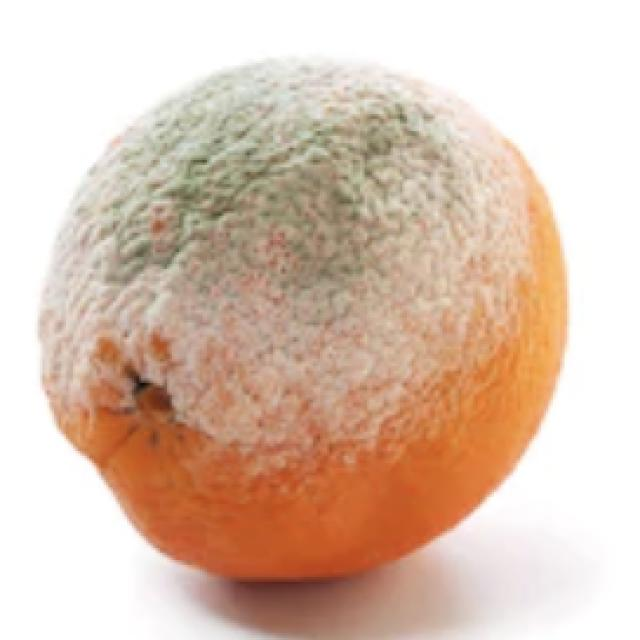rotten-orange: (45, 60, 562, 581)
